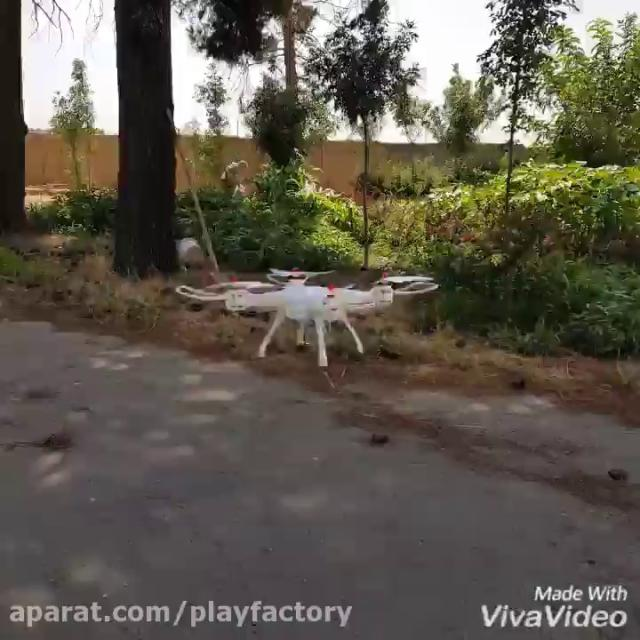drone: (172, 264, 442, 368)
